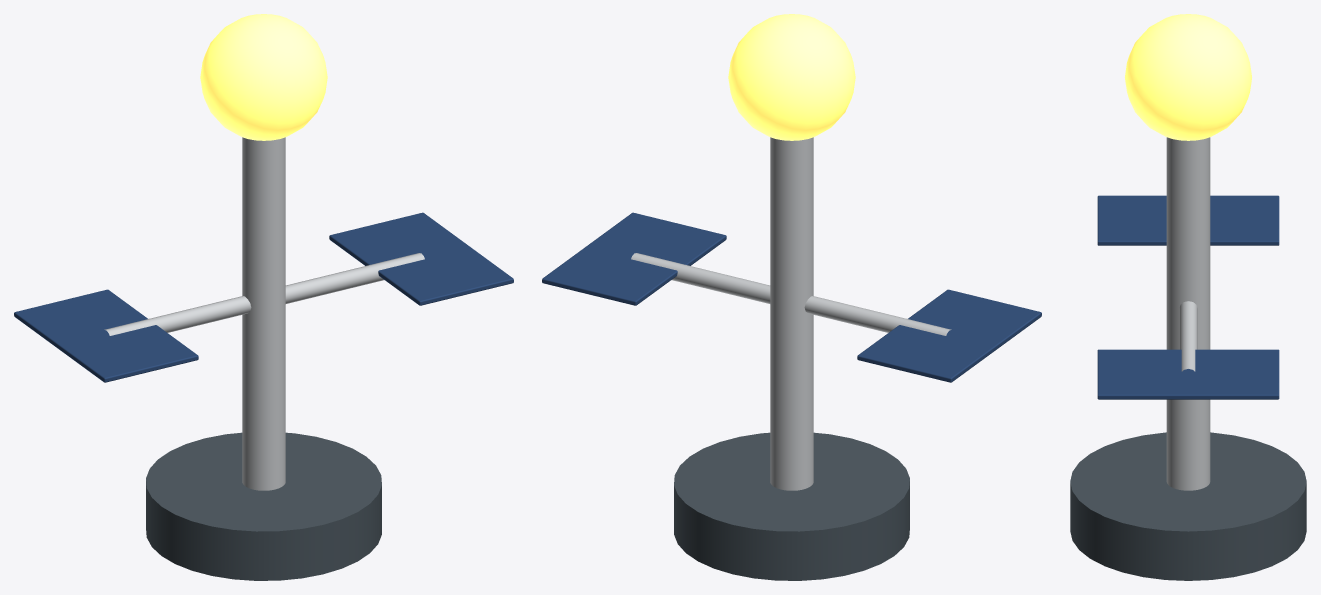
The picture shows the model from 3 angles, left to right: view 1: azimuth 30°, elevation 25°; view 2: azimuth 150°, elevation 25°; view 3: azimuth 270°, elevation 25°; orthographic projection.
Visible parts, largest first — view 1: relay-beacon; view 2: relay-beacon; view 3: relay-beacon.
Part boxes in pixels (<box>): relay-beacon: <box>14,14,513,580</box>; relay-beacon: <box>542,14,1041,580</box>; relay-beacon: <box>1070,14,1306,580</box>.
Bounding box in the file's own units: 2.6 × 3.1 × 1.3.
